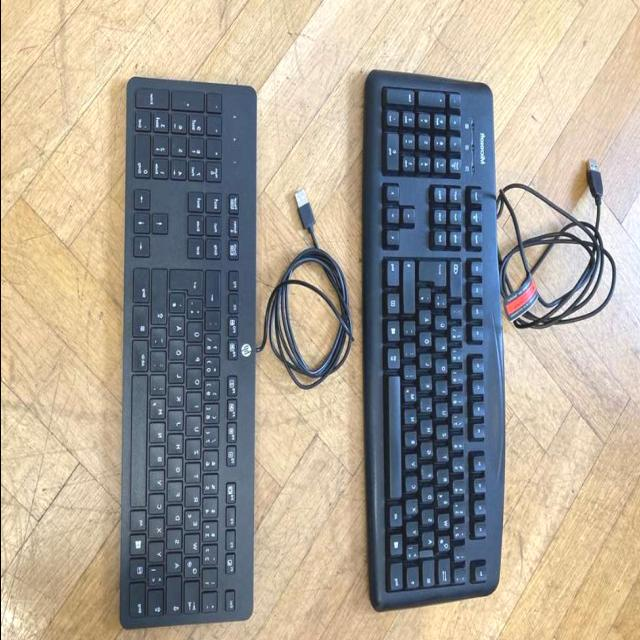0: (206, 360, 222, 382), (450, 347, 464, 365)
1: (203, 569, 219, 590), (453, 546, 467, 564)
2: (204, 548, 220, 570), (453, 525, 467, 543)
3: (204, 523, 220, 545), (453, 503, 467, 521)
4: (204, 501, 220, 522), (453, 481, 466, 497)
5: (204, 478, 220, 499), (452, 458, 466, 476)
6: (205, 454, 221, 475), (452, 435, 466, 453)
7: (205, 430, 221, 451), (451, 413, 465, 431)
8: (205, 407, 221, 428), (451, 391, 465, 409)
9: (206, 384, 222, 405), (451, 368, 465, 386)
a: (168, 556, 184, 577), (423, 534, 436, 552)
accent: (206, 312, 222, 332), (450, 305, 464, 321)
ae: (170, 319, 187, 340), (421, 312, 434, 330)
alt-left: (132, 513, 149, 535), (388, 505, 402, 529)
altgr-right: (132, 340, 150, 374), (387, 349, 401, 371)
b: (152, 450, 168, 471), (406, 434, 419, 452)
c: (150, 497, 167, 519), (407, 479, 420, 497)
caret: (203, 593, 219, 614), (454, 570, 467, 585)
comma: (152, 379, 168, 400), (403, 366, 417, 382)
d: (169, 508, 185, 529), (422, 487, 435, 505)
del: (206, 272, 222, 308), (452, 262, 465, 300)
e: (186, 513, 202, 534), (438, 494, 452, 513)
enter: (169, 270, 206, 300), (419, 264, 448, 290)
f: (169, 485, 186, 506), (421, 463, 434, 481)
g: (169, 461, 185, 482), (422, 444, 435, 462)
h: (170, 437, 186, 458), (422, 423, 434, 439)
hash: (171, 296, 188, 318), (420, 292, 433, 308)
i: (188, 396, 204, 416), (437, 382, 450, 398)
j: (170, 414, 186, 435), (422, 401, 435, 417)
k: (170, 389, 186, 411), (421, 379, 435, 395)
keyboard: (360, 66, 508, 616), (119, 72, 259, 634)
l: (171, 367, 187, 387), (421, 357, 434, 373)
less: (150, 569, 167, 591), (408, 547, 421, 565)
m: (151, 402, 168, 423), (403, 388, 417, 404)
minus: (153, 332, 169, 353), (402, 321, 416, 337)
n: (152, 425, 168, 447), (403, 411, 417, 427)
o: (188, 372, 204, 394), (437, 361, 450, 379)
oe: (171, 343, 187, 364), (421, 335, 434, 351)
p: (188, 349, 204, 370), (437, 340, 450, 356)
plus: (189, 302, 206, 323), (436, 297, 450, 313)
point: (152, 354, 168, 375), (403, 343, 417, 359)
q: (186, 561, 203, 584), (440, 539, 453, 557)
r: (187, 490, 203, 511), (439, 473, 452, 489)
s: (168, 532, 184, 554), (423, 512, 437, 529)
shift-left: (149, 594, 166, 622), (409, 570, 421, 593)
shift-lock: (168, 580, 184, 620), (423, 562, 436, 591)
shift-right: (154, 272, 170, 328), (404, 263, 417, 317)
space: (130, 375, 148, 509), (387, 376, 403, 502)
ss: (206, 334, 222, 355), (451, 326, 465, 344)
strg-left: (130, 586, 148, 624), (389, 562, 403, 593)
strg-right: (134, 270, 152, 308), (388, 261, 402, 290)
t: (187, 466, 203, 487), (438, 450, 451, 466)
tab: (186, 585, 203, 618), (439, 562, 453, 590)
u: (188, 419, 204, 440), (435, 404, 448, 420)
ue: (189, 325, 205, 346), (437, 319, 450, 335)
v: (151, 473, 168, 494), (407, 456, 420, 474)
w: (186, 537, 202, 558), (440, 516, 453, 534)
x: (151, 520, 167, 542), (406, 500, 419, 518)
y: (150, 545, 166, 566), (406, 521, 419, 539)
z: (187, 443, 204, 464), (439, 428, 451, 444)
